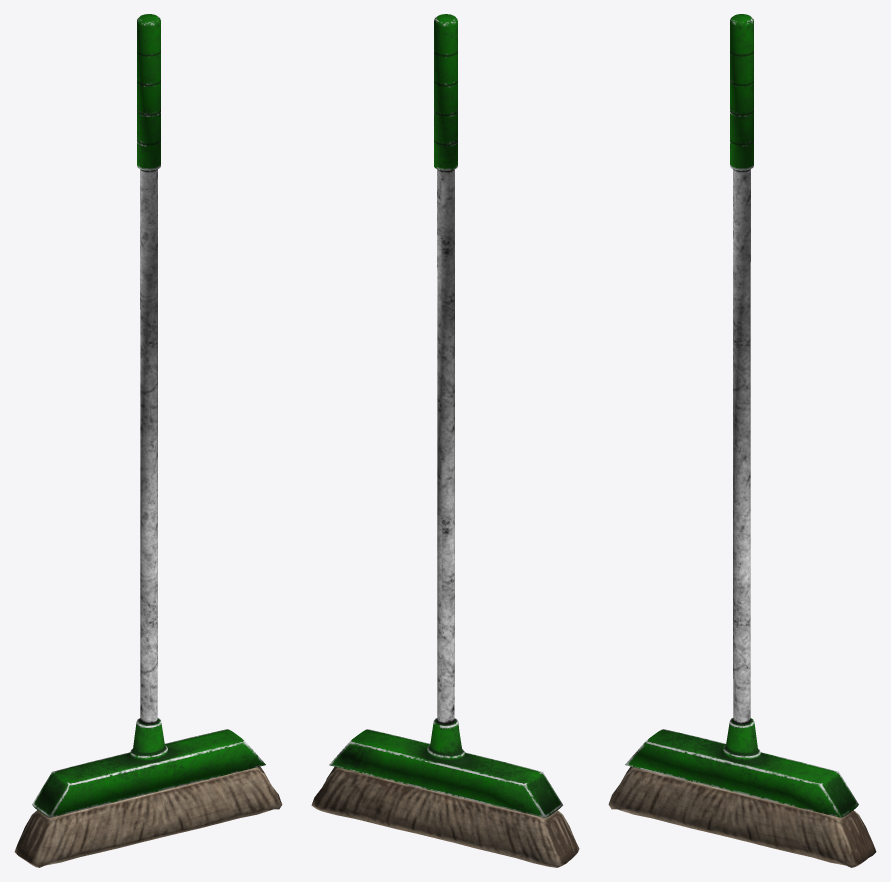
File: Broom3.fbx
The picture shows the model from 3 angles, left to right: view 1: azimuth 30°, elevation 25°; view 2: azimuth 150°, elevation 25°; view 3: azimuth 330°, elevation 25°; orthographic projection.
Parts seen in each view (by area): view 1: Retopo_Broom.002; view 2: Retopo_Broom.002; view 3: Retopo_Broom.002.
Boxes of the visible parts, x1=… form: Retopo_Broom.002: x1=14, y1=14, x2=282, y2=867; Retopo_Broom.002: x1=311, y1=14, x2=579, y2=867; Retopo_Broom.002: x1=608, y1=14, x2=876, y2=867.
Bounding box in the file's own units: 52.89 × 163 × 9.07.
1 material, 1 textured.
